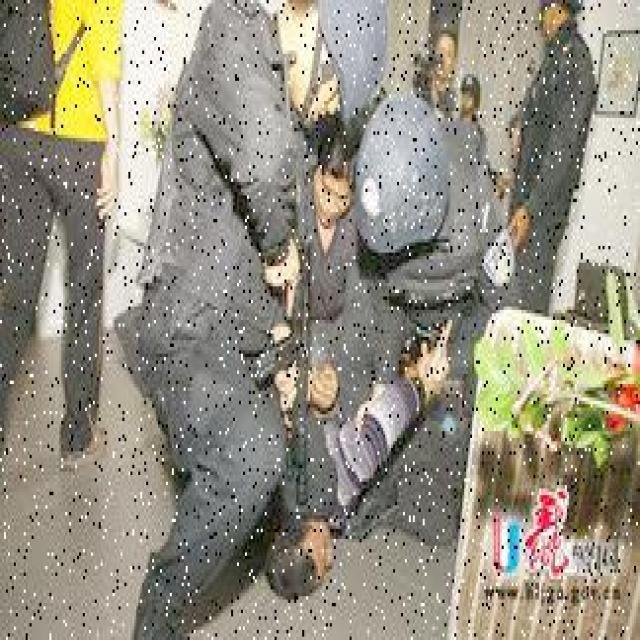fall: (257, 353, 462, 590)
